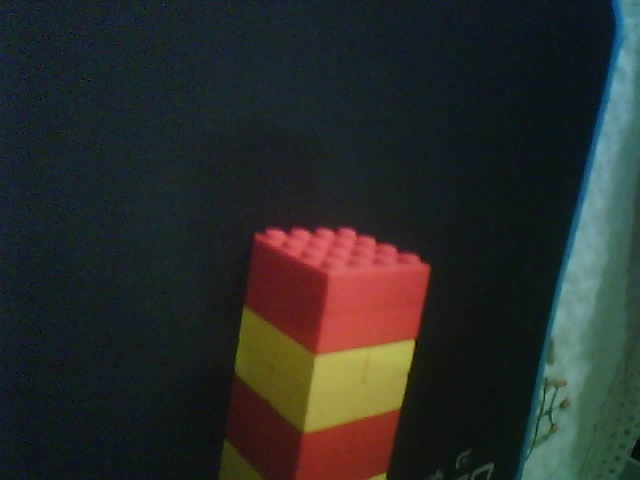lego: (215, 226, 431, 480)
